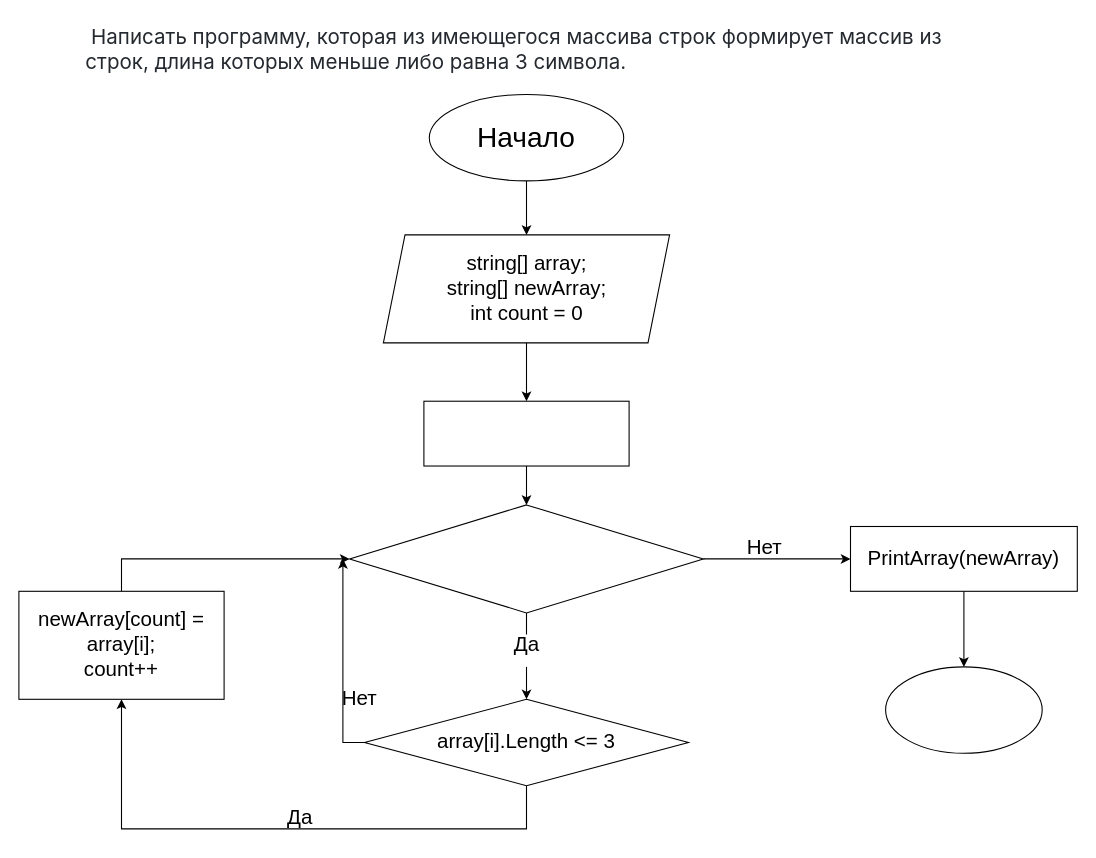
The diagram is 1096 pixels wide and 858 high, and some of its shapes have lost their labels. The shapes that lost their labels are listed below. From the top down, each one's centre as x and y in pixels, then its label:
point (526, 433): PrintArray(array)
point (526, 558): for(int i=0; i< array.Length; i++)
point (963, 709): Конец
